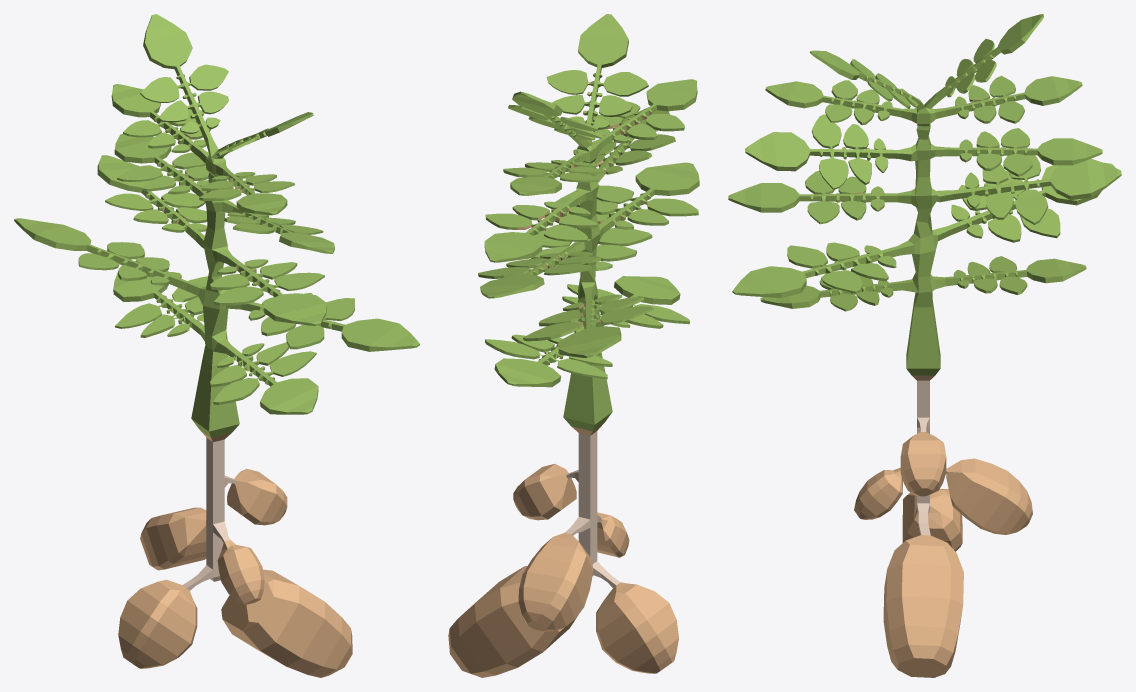
Rendered from mod_Potato.fbx.
3 views of the same model, side by side, from view 1: azimuth 30°, elevation 25°; view 2: azimuth 150°, elevation 25°; view 3: azimuth 270°, elevation 25° (orthographic). The views are drawn at different scales.
Parts seen in each view (by area): view 1: PotatoPlant; view 2: PotatoPlant; view 3: PotatoPlant.
Part boxes in pixels (x1,y1,x2,y2): PotatoPlant: (14,14,419,677); PotatoPlant: (448,14,699,677); PotatoPlant: (728,14,1121,677).
Bounding box in the file's own units: 338 × 863 × 502.
